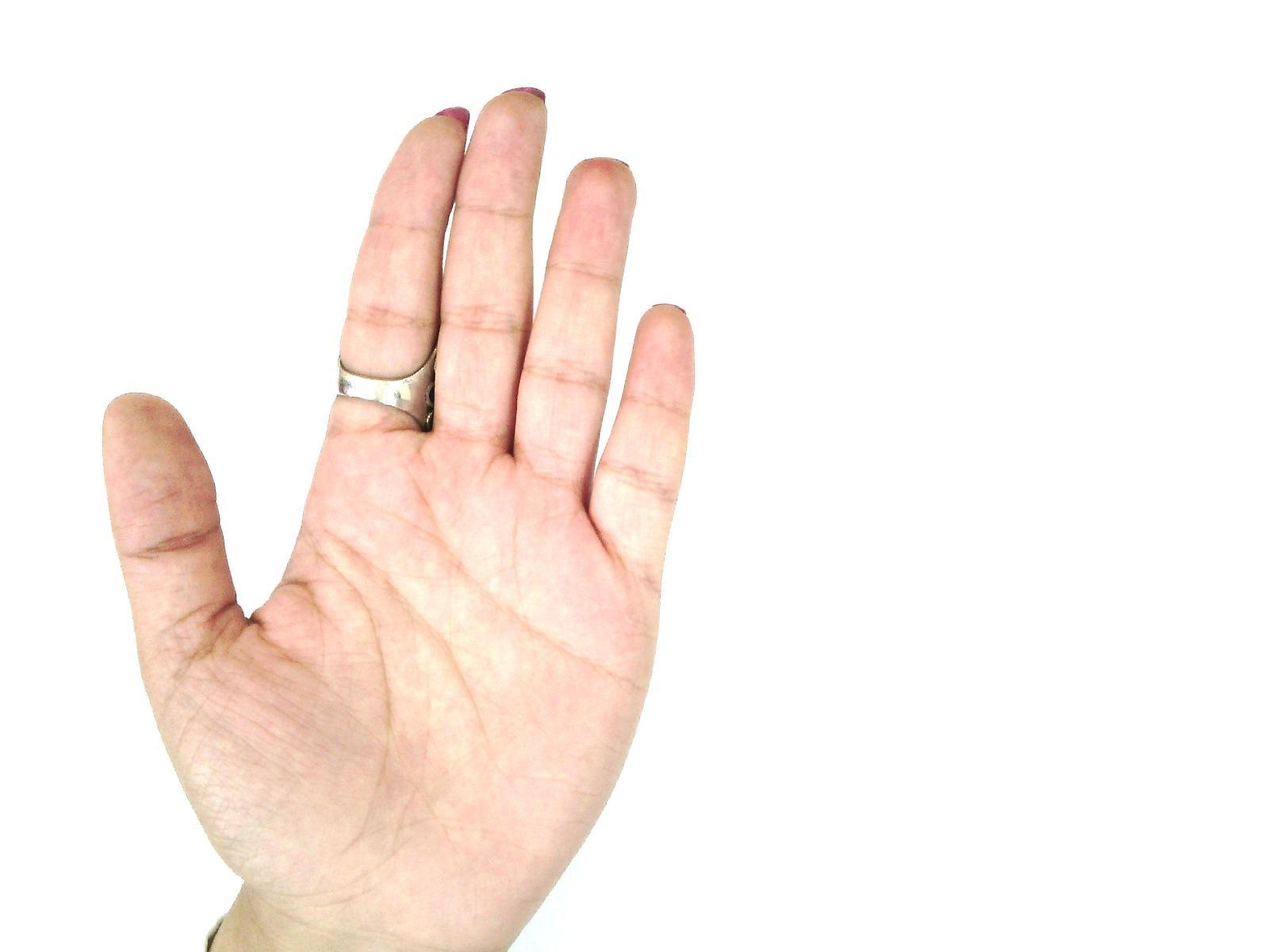open_palm: (99, 86, 700, 950)
